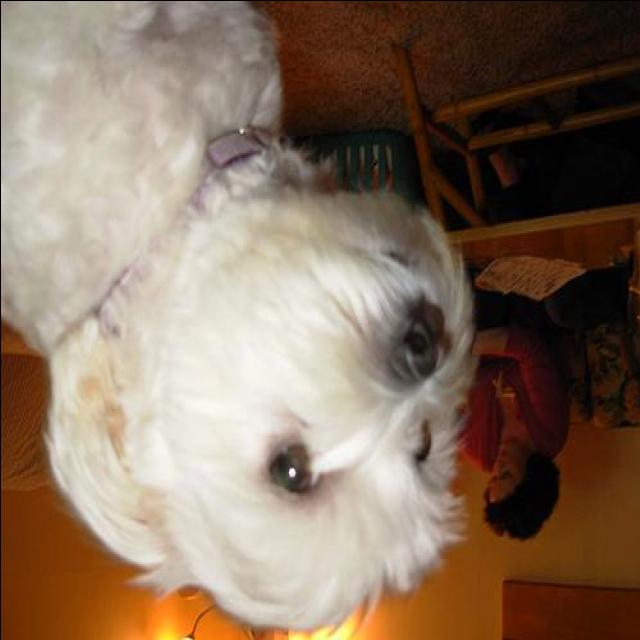maltese_dog: (0, 1, 474, 632)
